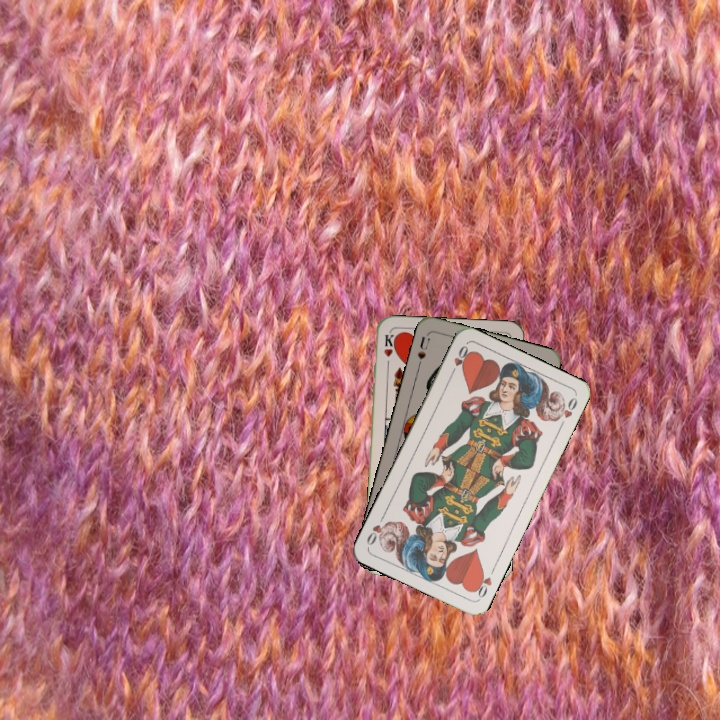HK: (380, 330, 398, 370)
HO: (446, 341, 472, 379), (469, 567, 495, 602)
SU: (413, 332, 432, 370)
